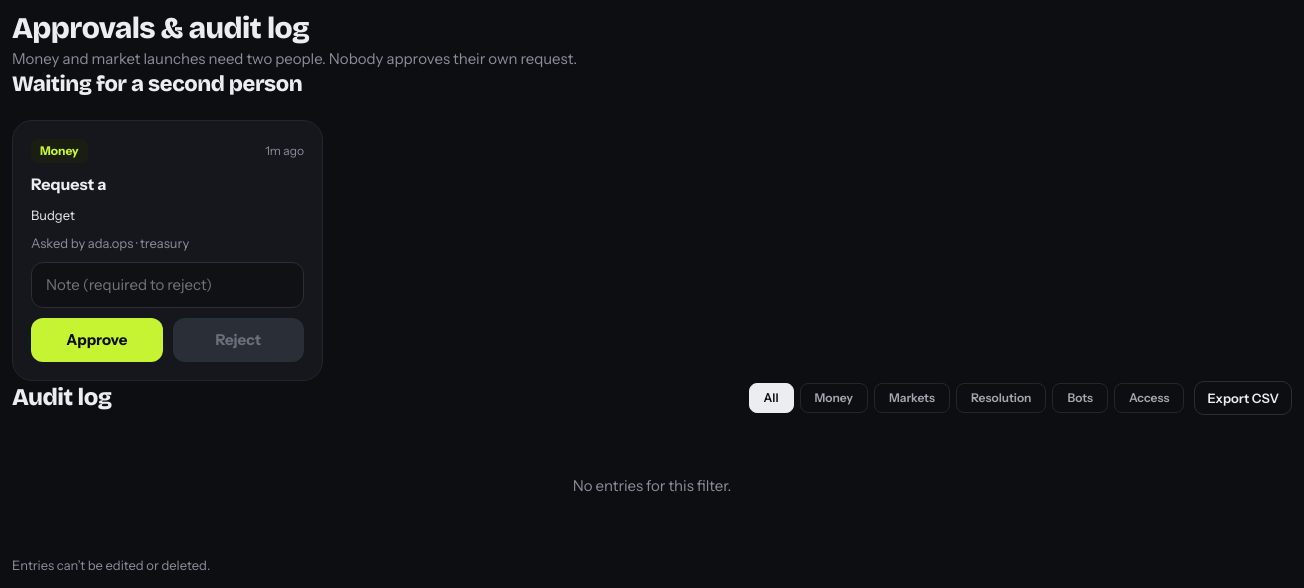
approvals › should require a reason to reject
Check: the button "Reject" is disabled, box [172,318,304,362]
Type "Budget already covered" into the field named "Note or reason".
click(168, 285); type("Budget already covered")  # box [31,262,304,308]
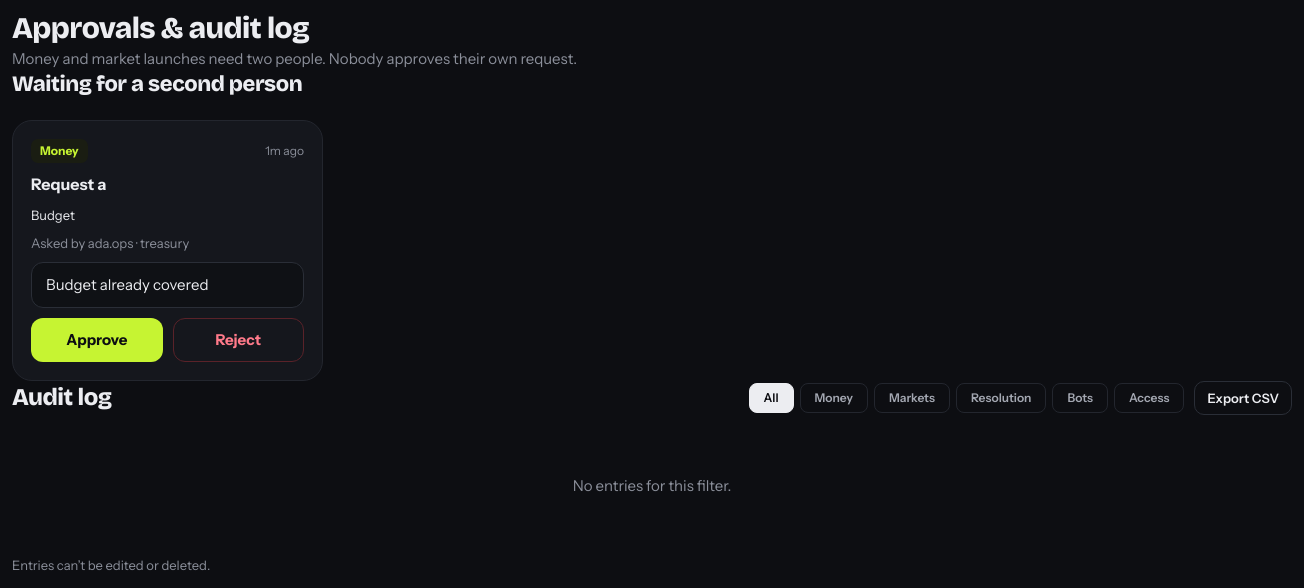
Check: the button "Reject" is enabled, box [172,318,304,362]
